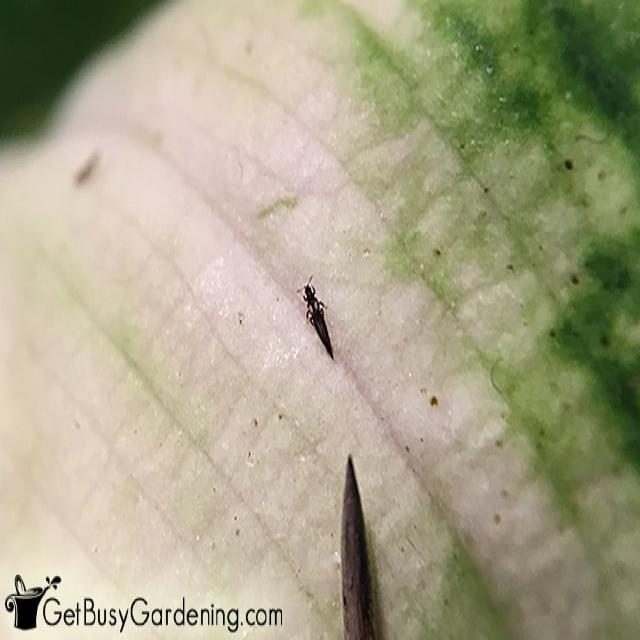Thrip-Adult-: (288, 270, 340, 372)
